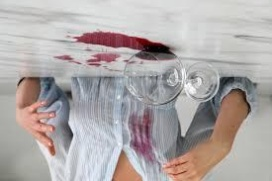wine: (127, 108, 162, 162)
